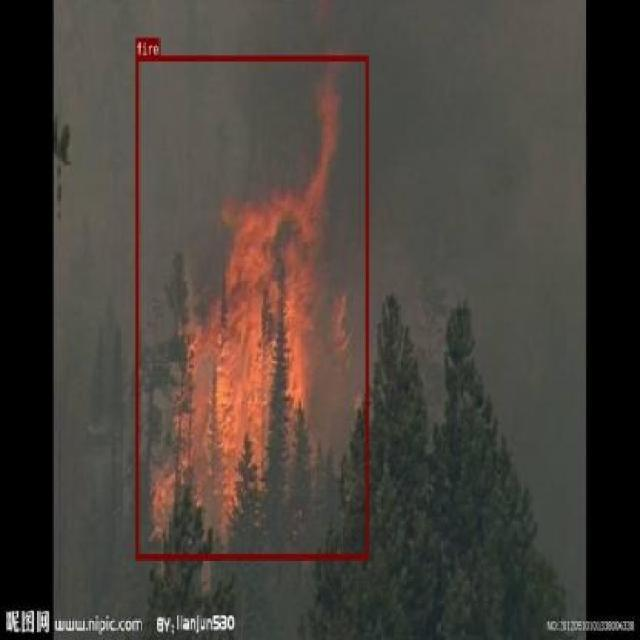Fire: (135, 54, 368, 558)
